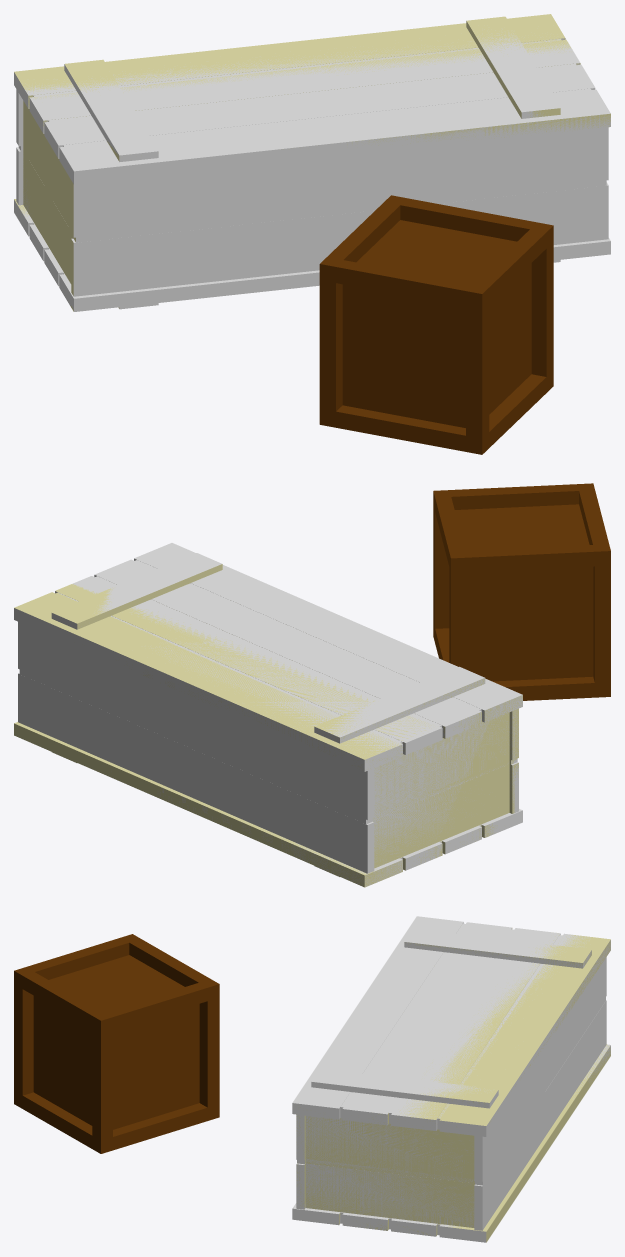
File: boxes.fbx
The picture shows the model from 3 angles, top to bottom: view 1: azimuth 30°, elevation 25°; view 2: azimuth 150°, elevation 25°; view 3: azimuth 270°, elevation 25°; orthographic projection. The views are drawn at different scales.
Parts seen in each view (by area): view 1: caja1, Cube.019, Cube.015, Cube.003, Cube.020, Cube.014, Cube.013, Cube.018; view 2: Cube.003, Cube.015, Cube.018, caja1, Cube.017, Cube.014, Cube.020, Cube.013, Cube.019; view 3: caja1, Cube.003, Cube.015, Cube.018, Cube.016, Cube.013, Cube.014, Cube.020, Cube.019.
Part boxes in pixels (x1,y1,x2,y2): caja1: [319, 195, 553, 454]; Cube.019: [71, 127, 608, 296]; Cube.015: [14, 37, 610, 184]; Cube.003: [14, 14, 610, 311]; Cube.020: [14, 199, 610, 311]; Cube.014: [64, 64, 158, 162]; Cube.013: [466, 26, 560, 118]; Cube.018: [16, 89, 23, 205]; Cube.003: [14, 564, 522, 887]; Cube.015: [14, 543, 522, 771]; Cube.018: [18, 622, 374, 873]; caja1: [433, 483, 610, 700]; Cube.017: [372, 715, 509, 866]; Cube.014: [314, 666, 485, 743]; Cube.020: [102, 765, 522, 886]; Cube.013: [51, 553, 221, 629]; Cube.019: [509, 710, 518, 813]; caja1: [14, 934, 219, 1153]; Cube.003: [296, 928, 610, 1242]; Cube.015: [292, 916, 610, 1136]; Cube.018: [474, 957, 606, 1230]; Cube.016: [305, 1115, 474, 1227]; Cube.013: [311, 1068, 498, 1108]; Cube.014: [404, 928, 591, 968]; Cube.020: [292, 1044, 610, 1242]; Cube.019: [296, 1114, 305, 1209].
Bounding box in the file's own units: 419 × 125 × 503.
